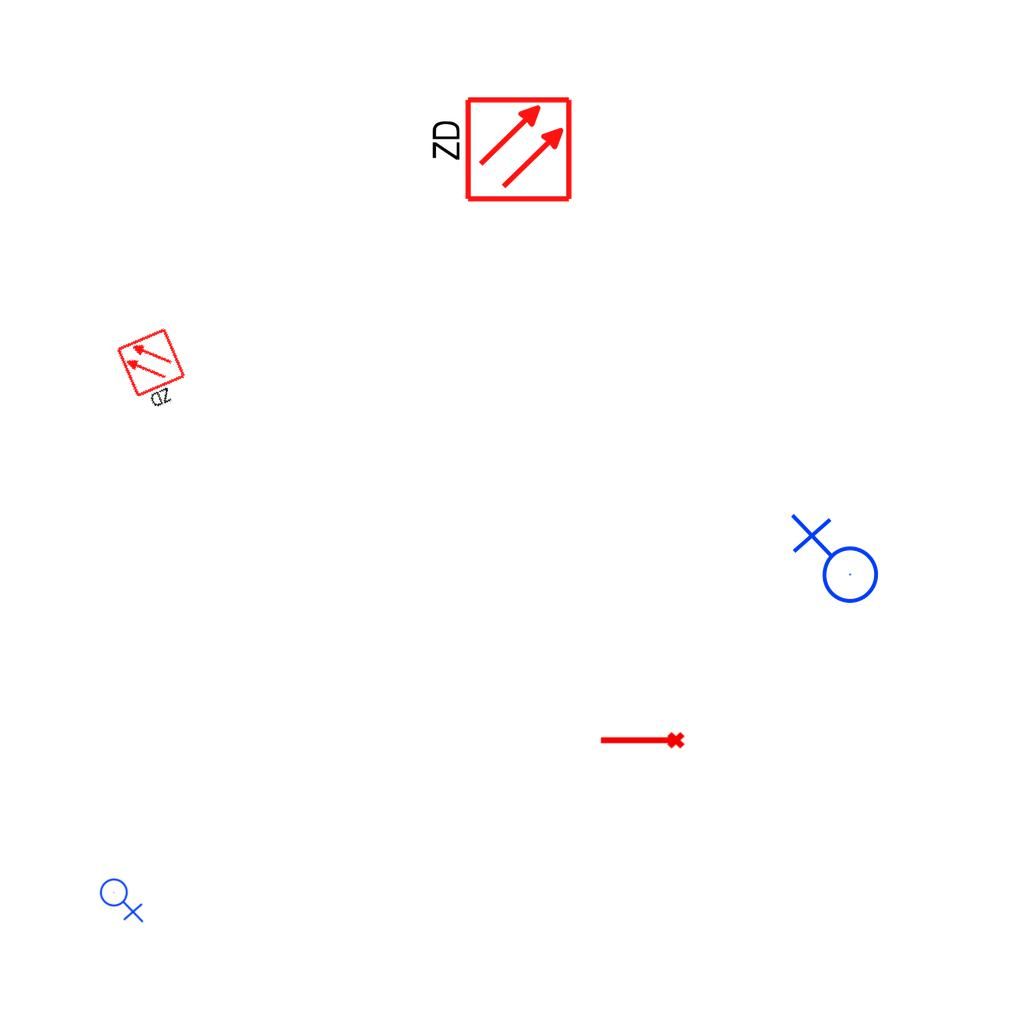ASR_Ansaugoeffnung: (598, 730, 686, 753)
Elektroanschluss_allgemein_230V_Geraeteanschlussdose_230V: (786, 513, 880, 612), (99, 874, 146, 923)
ZD_Melder_in_Zwischendecke_mit_Revisionsoeffnung_mind_40_x_40_cm: (425, 94, 574, 208), (114, 325, 197, 417)
